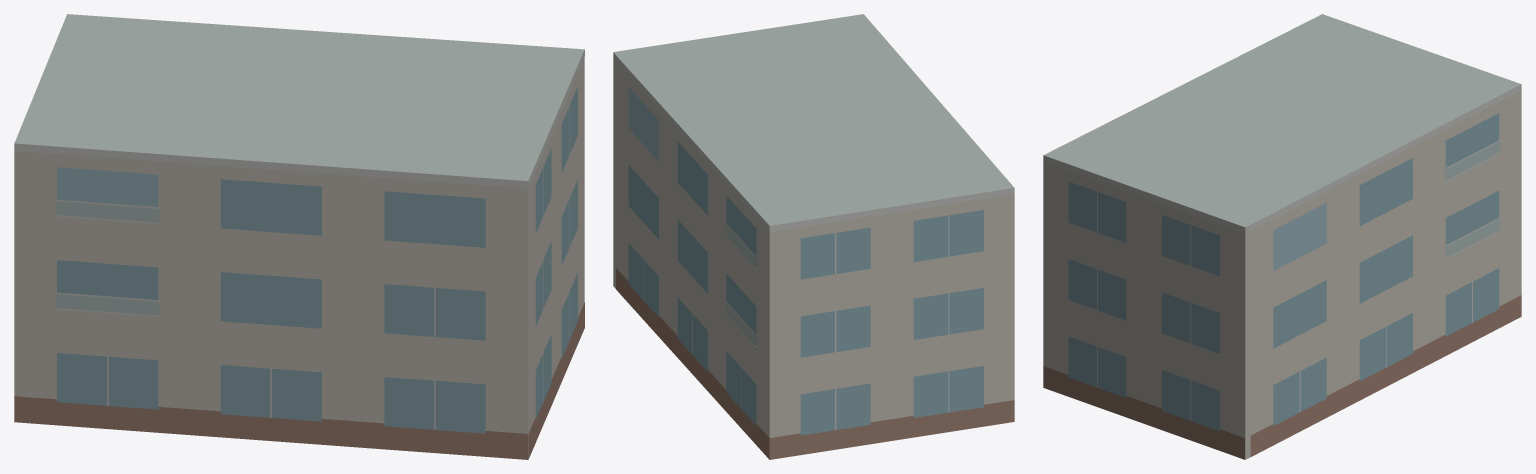
Rendered from survey-upis-33039761.glb.
3 renders of one model, left to right at view 1: azimuth 30°, elevation 25°; view 2: azimuth 150°, elevation 25°; view 3: azimuth 270°, elevation 25°, orthographic. The views are drawn at different scales.
Visible parts, largest first — view 1: survey-upis-33039761.tmp; view 2: survey-upis-33039761.tmp; view 3: survey-upis-33039761.tmp.
Boxes of the visible parts, box(x1,y1,x2,y2) form: survey-upis-33039761.tmp: box(14, 14, 584, 459); survey-upis-33039761.tmp: box(613, 14, 1014, 459); survey-upis-33039761.tmp: box(1043, 14, 1521, 459).
Size of the model in its own units: 18.02 by 9.15 by 17.06.
